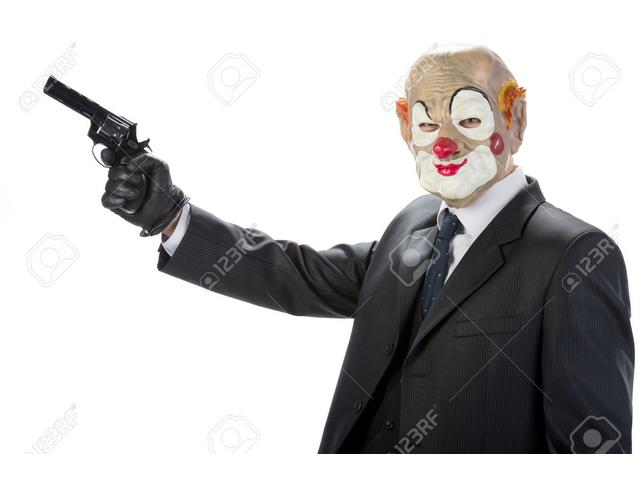pistol: (37, 74, 152, 222)
